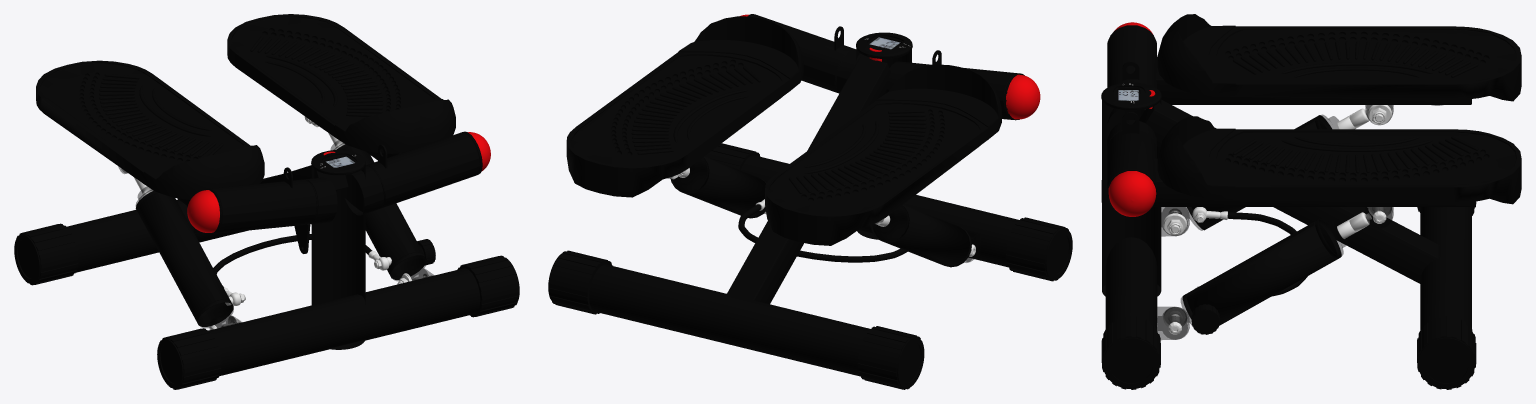
File: AND@R21 (1).glb
3 views of the same model, side by side, from view 1: azimuth 30°, elevation 25°; view 2: azimuth 150°, elevation 25°; view 3: azimuth 270°, elevation 25° (orthographic). The views are drawn at different scales.
Parts seen in each view (by area): view 1: Цилиндр.086; view 2: Цилиндр.086; view 3: Цилиндр.086.
Part boxes in pixels (x1=…): Цилиндр.086: x1=14, y1=14, x2=519, y2=389; Цилиндр.086: x1=548, y1=14, x2=1072, y2=389; Цилиндр.086: x1=1101, y1=14, x2=1521, y2=389.
Bounding box in the file's own units: 0.5054 × 0.2896 × 0.4945.
11 materials, 1 textured.
